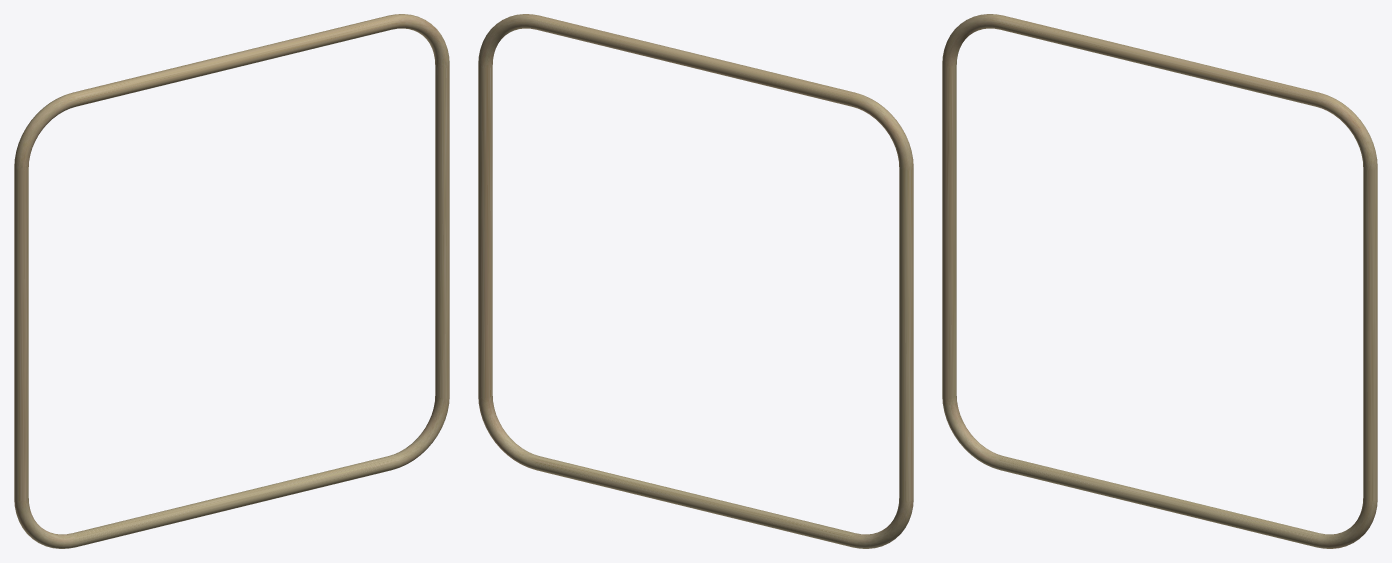
The model's file is DefaultPictureFrame.glb.
The picture shows the model from 3 angles, left to right: view 1: azimuth 30°, elevation 25°; view 2: azimuth 150°, elevation 25°; view 3: azimuth 330°, elevation 25°; orthographic projection.
Parts seen in each view (by area): view 1: frame-round; view 2: frame-round; view 3: frame-round.
Boxes of the visible parts, bbox=[...] form: frame-round: bbox=[14, 14, 449, 548]; frame-round: bbox=[478, 14, 913, 548]; frame-round: bbox=[942, 14, 1377, 548].
Bounding box in the file's own units: 0.515 × 0.515 × 0.015.
Materials: 1 (1 with a texture image).
